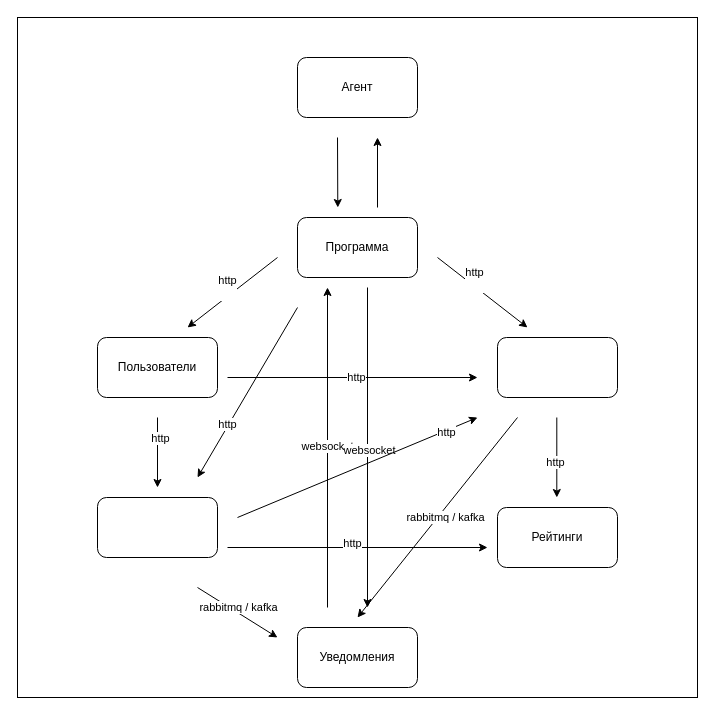
The diagram is 715 pixels wide and 715 high, and some of its shapes have lost their labels. The shapes that lost their labels are listed below. From the top down, each one's box as (x1, y1, x2, y2) in pixels, then its label:
(496, 336, 618, 398): Бои
(96, 496, 218, 558): Туниры
